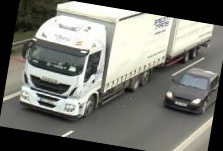truck: (16, 0, 213, 141)
